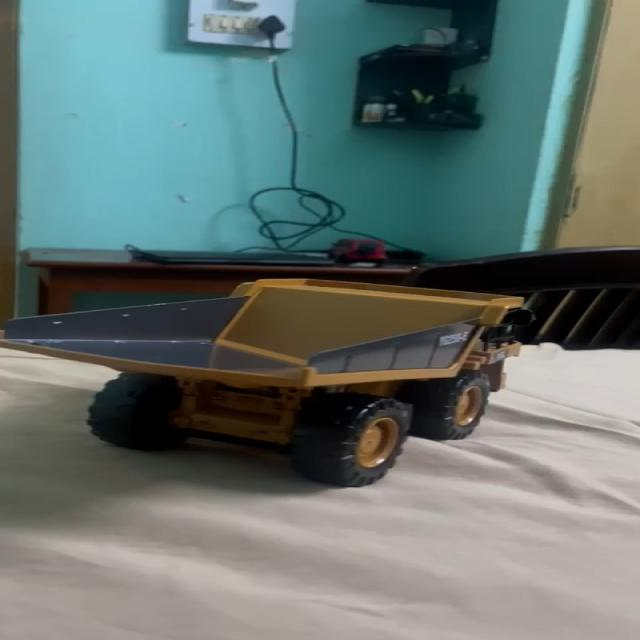dump_truck: (0, 283, 536, 481)
light_vehicle: (330, 240, 390, 267)
